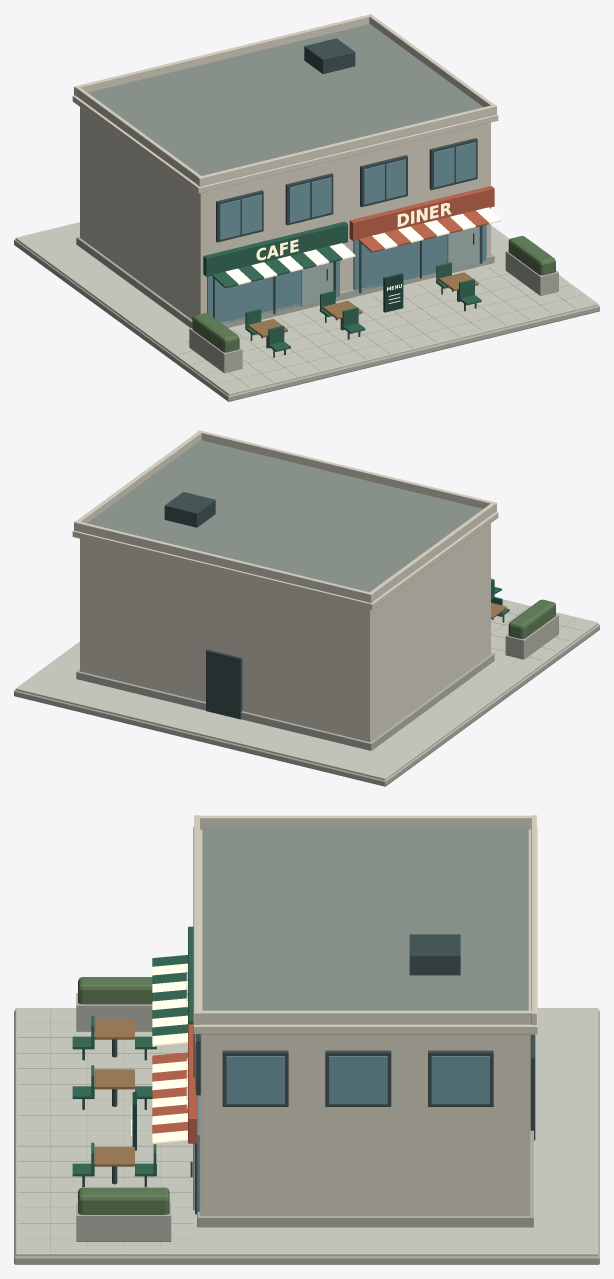
File: small-4x4-cafe-diner-04.glb
The picture shows the model from 3 angles, top to bottom: view 1: azimuth 30°, elevation 25°; view 2: azimuth 150°, elevation 25°; view 3: azimuth 270°, elevation 25°; orthographic projection. The views are drawn at different scales.
Visible parts, largest first — view 1: RoofDeck, RowBody, LotPaving, Lot_4x4, ShopGlass.001, ShopGlass, Cornice, Parapet, Parapet.001, CafeSign, DinerSign, Base (+18 smaller); view 2: RowBody, RoofDeck, LotPaving, Lot_4x4, Base, Cornice, Parapet.001, Parapet, RearServiceDoor, Parapet.002, RoofExtractor, Parapet.003 (+2 smaller); view 3: RoofDeck, LotPaving, RowBody, Lot_4x4, Cornice, Parapet.003, Base, Parapet.002, SideUpperGlass, SideUpperGlass.001, SideUpperGlass.002, Planter.001 (+15 smaller).
Boxes of the visible parts, bbox=[...] form: RoofDeck: bbox=[88, 24, 483, 175]; RowBody: bbox=[80, 107, 490, 319]; LotPaving: bbox=[15, 222, 598, 395]; Lot_4x4: bbox=[14, 239, 599, 401]; ShopGlass.001: bbox=[353, 224, 486, 291]; ShopGlass: bbox=[207, 260, 339, 322]; Cornice: bbox=[72, 95, 498, 193]; Parapet: bbox=[197, 104, 496, 186]; Parapet.001: bbox=[74, 14, 372, 95]; CafeSign: bbox=[203, 221, 347, 276]; DinerSign: bbox=[349, 186, 494, 240]; Base: bbox=[76, 236, 494, 327]; RowBody: bbox=[80, 523, 490, 742]; RoofDeck: bbox=[87, 440, 482, 592]; LotPaving: bbox=[15, 599, 598, 780]; Lot_4x4: bbox=[14, 624, 599, 786]; Base: bbox=[76, 653, 494, 750]; Cornice: bbox=[72, 511, 498, 609]; Parapet.001: bbox=[74, 520, 373, 602]; Parapet: bbox=[198, 430, 496, 512]; RearServiceDoor: bbox=[206, 649, 242, 719]; Parapet.002: bbox=[370, 503, 494, 600]; RoofExtractor: bbox=[164, 492, 215, 527]; Parapet.003: bbox=[77, 431, 201, 523]; RoofDeck: bbox=[202, 827, 528, 1010]; LotPaving: bbox=[15, 1008, 598, 1256]; RowBody: bbox=[200, 1034, 530, 1215]; Lot_4x4: bbox=[14, 1010, 599, 1264]; Cornice: bbox=[193, 827, 537, 1034]; Parapet.003: bbox=[198, 1010, 533, 1024]; Base: bbox=[197, 1034, 533, 1227]; Parapet.002: bbox=[197, 815, 533, 829]; SideUpperGlass: bbox=[226, 1056, 284, 1104]; SideUpperGlass.001: bbox=[329, 1056, 387, 1104]; SideUpperGlass.002: bbox=[431, 1056, 489, 1104]; Planter.001: bbox=[76, 1203, 171, 1241].
Size of the model in its own units: 16 by 7.32 by 16.
